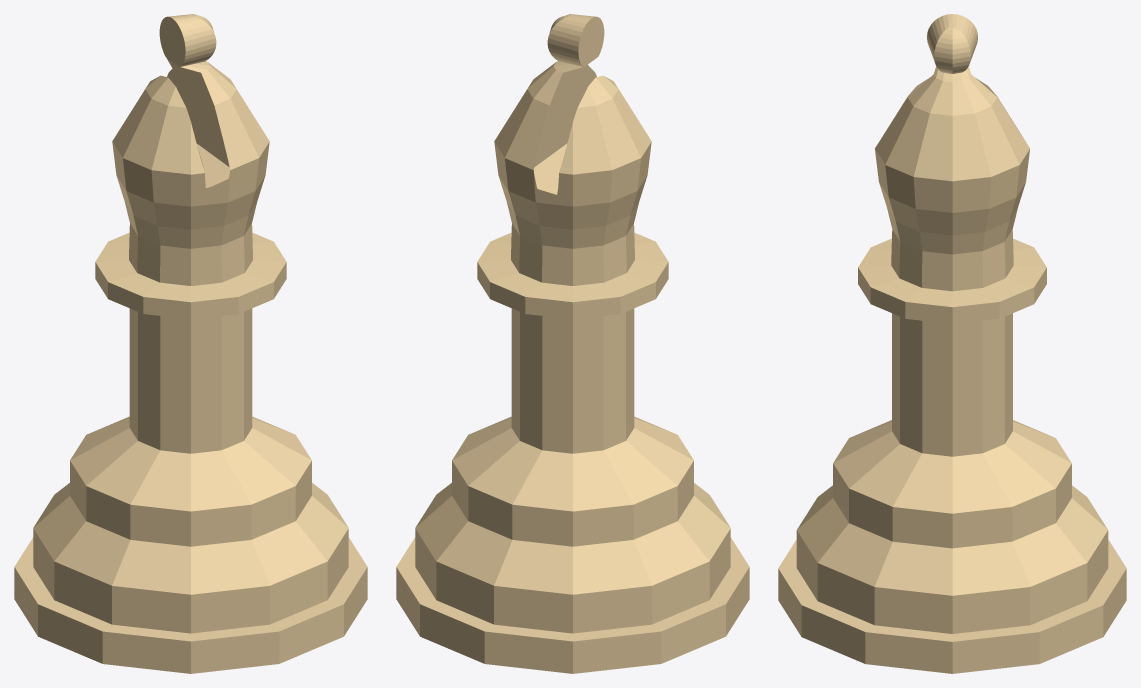
Rendered from lowpoly_b_w.glb.
The picture shows the model from 3 angles, left to right: view 1: azimuth 30°, elevation 25°; view 2: azimuth 150°, elevation 25°; view 3: azimuth 270°, elevation 25°; orthographic projection.
Visible parts, largest first — view 1: Bishop.003; view 2: Bishop.003; view 3: Bishop.003.
Boxes of the visible parts, x1,y1,x2,y2 form: Bishop.003: [14, 14, 367, 673]; Bishop.003: [396, 14, 749, 673]; Bishop.003: [778, 14, 1126, 673].
Bounding box in the file's own units: 0.0821 × 0.1501 × 0.0821.
